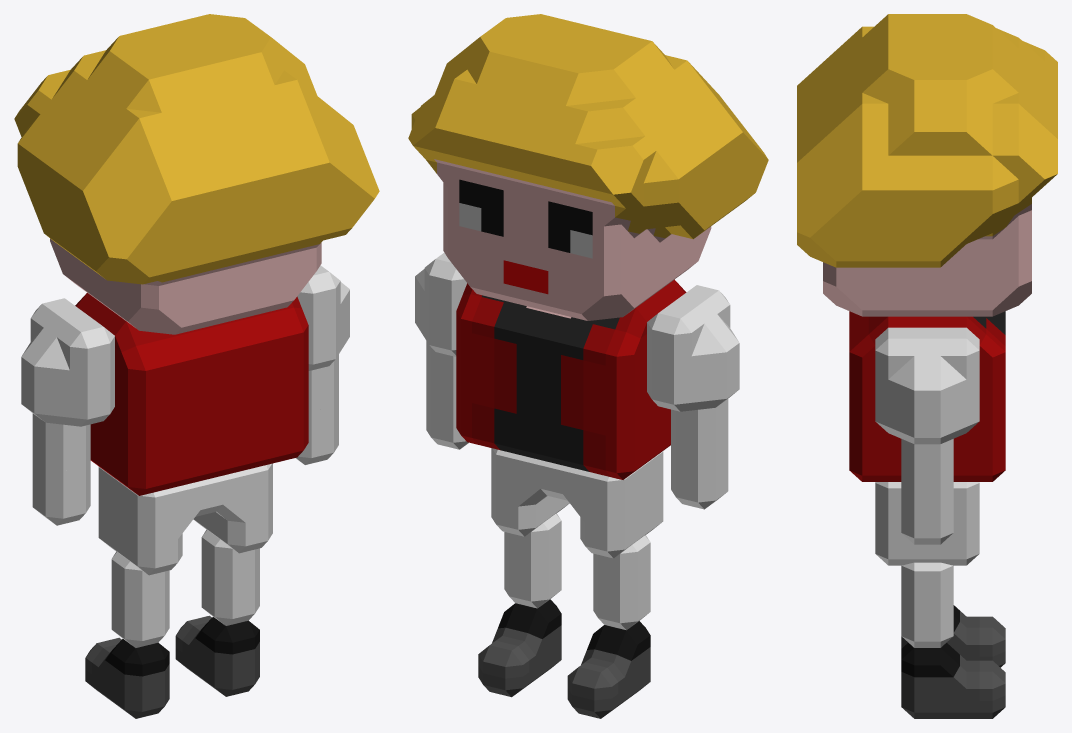
File: itmyBully_test1.fbx
The picture shows the model from 3 angles, left to right: view 1: azimuth 30°, elevation 25°; view 2: azimuth 150°, elevation 25°; view 3: azimuth 270°, elevation 25°; orthographic projection.
Visible parts, largest first — view 1: bully_0614, bully_0614.012, bully_0614.007, bully_0614.014, bully_0614.002, bully_0614.001, bully_0614.013, bully_0614.009, bully_0614.005, bully_0614.006, bully_0614.011, bully_0614.008 (+3 smaller); view 2: bully_0614, bully_0614.012, bully_0614.007, bully_0614.014, bully_0614.001, bully_0614.002, bully_0614.013, bully_0614.009, bully_0614.006, bully_0614.005, bully_0614.011, bully_0614.008 (+3 smaller); view 3: bully_0614, bully_0614.012, bully_0614.013, bully_0614.001, bully_0614.007, bully_0614.005, bully_0614.008, bully_0614.010, bully_0614.002, bully_0614.003.
Part boxes in pixels (box(x1,y1,x2,y2)): bully_0614: box(14, 14, 379, 334); bully_0614.012: box(75, 293, 308, 495); bully_0614.007: box(98, 463, 272, 575); bully_0614.014: box(21, 298, 114, 426); bully_0614.002: box(85, 637, 169, 718); bully_0614.001: box(175, 615, 259, 696); bully_0614.013: box(297, 265, 349, 370); bully_0614.009: box(32, 459, 90, 525); bully_0614.005: box(201, 529, 259, 595); bully_0614.006: box(111, 551, 169, 617); bully_0614.011: box(32, 413, 90, 471); bully_0614.008: box(295, 398, 338, 464); bully_0614: box(408, 14, 768, 320); bully_0614.012: box(456, 279, 686, 479); bully_0614.007: box(491, 448, 663, 558); bully_0614.014: box(647, 285, 739, 411); bully_0614.001: box(478, 599, 561, 697); bully_0614.002: box(567, 621, 650, 718); bully_0614.013: box(415, 252, 466, 356); bully_0614.009: box(671, 444, 728, 509); bully_0614.006: box(593, 535, 650, 600); bully_0614.005: box(504, 513, 561, 578); bully_0614.011: box(671, 399, 728, 456); bully_0614.008: box(426, 384, 468, 449); bully_0614: box(797, 14, 1057, 316); bully_0614.012: box(849, 311, 1005, 481); bully_0614.013: box(875, 327, 979, 444); bully_0614.001: box(901, 642, 1005, 718); bully_0614.007: box(875, 482, 979, 565); bully_0614.005: box(901, 562, 953, 618); bully_0614.008: box(901, 485, 953, 544); bully_0614.010: box(901, 439, 953, 491); bully_0614.002: box(901, 605, 1005, 667); bully_0614.003: box(901, 613, 953, 647).
Bounding box in the file's own units: 1.4 × 2.75 × 1.
